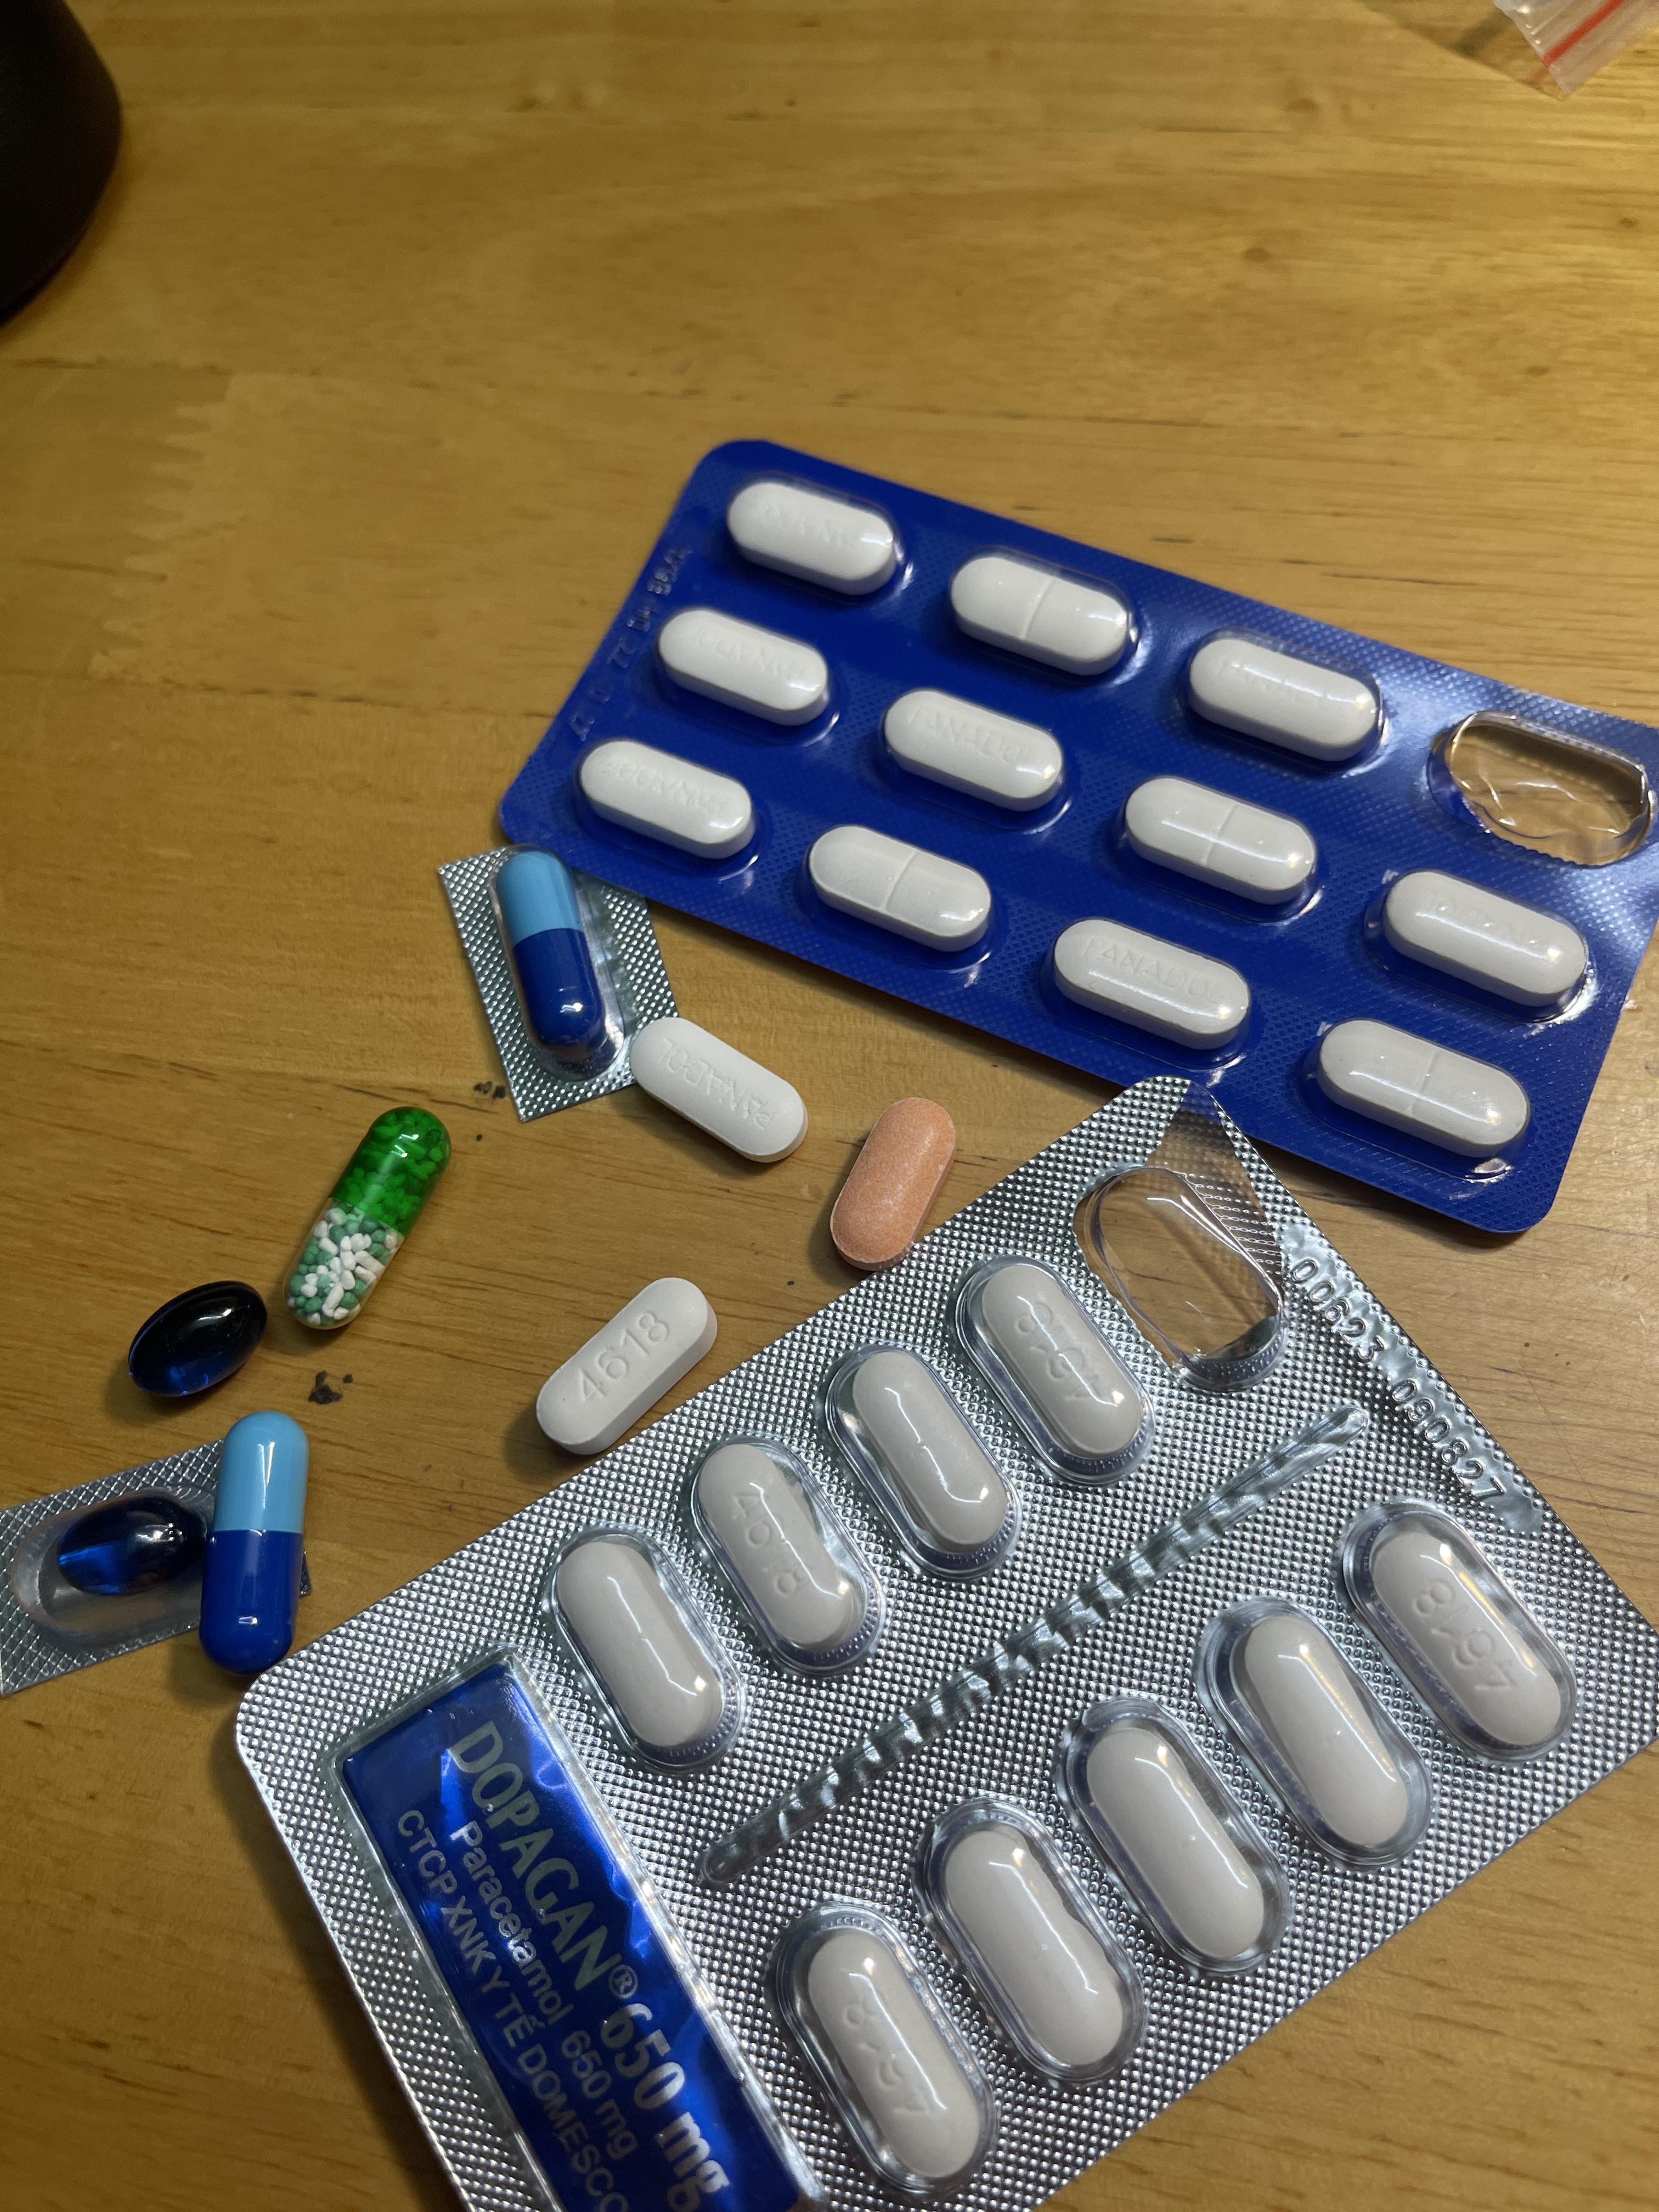Lincomyxin_500mg: (131, 1278, 268, 1400), (54, 1501, 202, 1597)
Loratadine_10mg: (824, 1103, 962, 1266)
Paracetamol_350mg: (1314, 1017, 1541, 1153), (1377, 869, 1595, 1010), (631, 1019, 807, 1163), (1185, 632, 1377, 761), (809, 824, 995, 953), (1051, 918, 1236, 1047), (1124, 777, 1310, 904), (951, 550, 1131, 674), (885, 688, 1066, 810), (580, 740, 755, 860), (660, 608, 833, 726), (728, 475, 903, 592)
Paracetamol_500mg: (1201, 1599, 1425, 1864), (1079, 1709, 1265, 1982), (939, 1829, 1126, 2071), (955, 1258, 1155, 1480), (687, 1437, 875, 1674), (1371, 1526, 1567, 1754), (828, 1343, 1016, 1576), (803, 1937, 979, 2186), (561, 1540, 723, 1756), (535, 1280, 714, 1453)
Paracetamol_650mg: (282, 1109, 450, 1334)
pill: (493, 852, 617, 1075), (204, 1416, 307, 1667)
